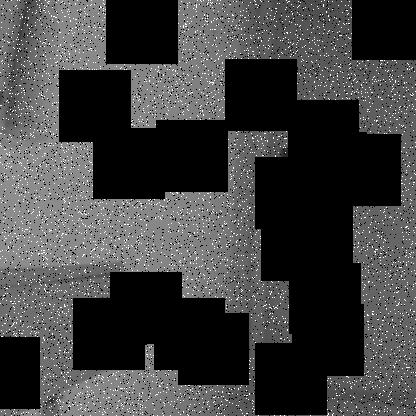Porte: (241, 1, 415, 415)
